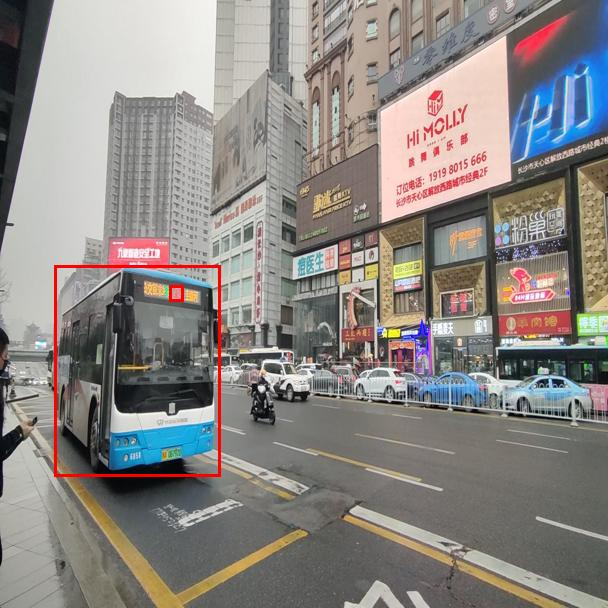bus: (54, 265, 220, 476)
screen: (169, 285, 183, 301)
